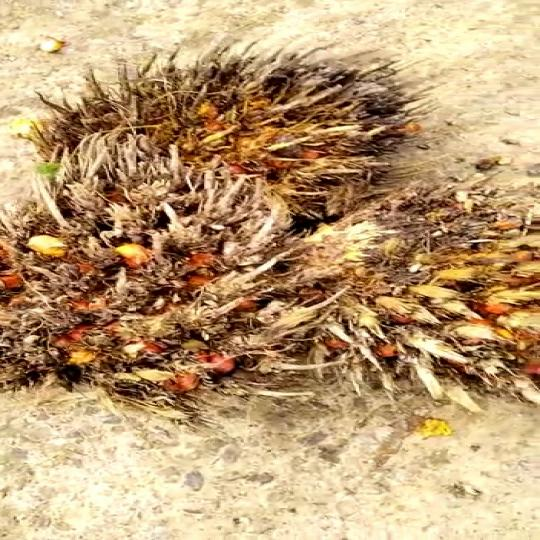terlalu masak: (0, 37, 443, 256), (249, 180, 540, 390)
